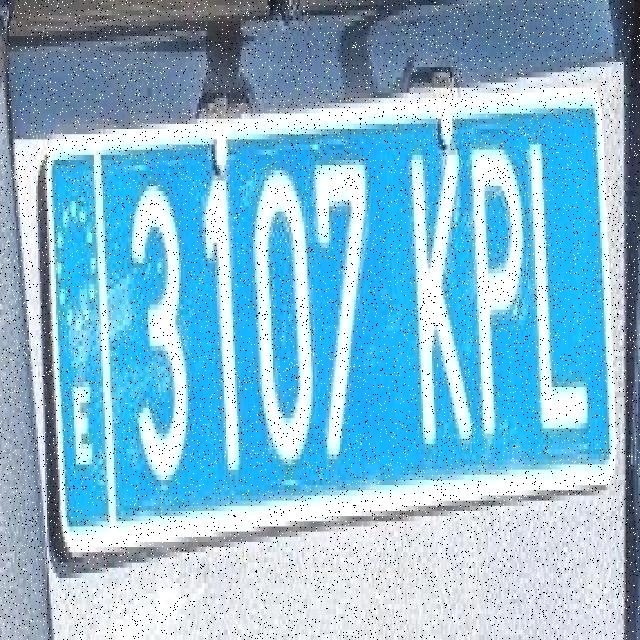licenseplate: (27, 53, 625, 614)
